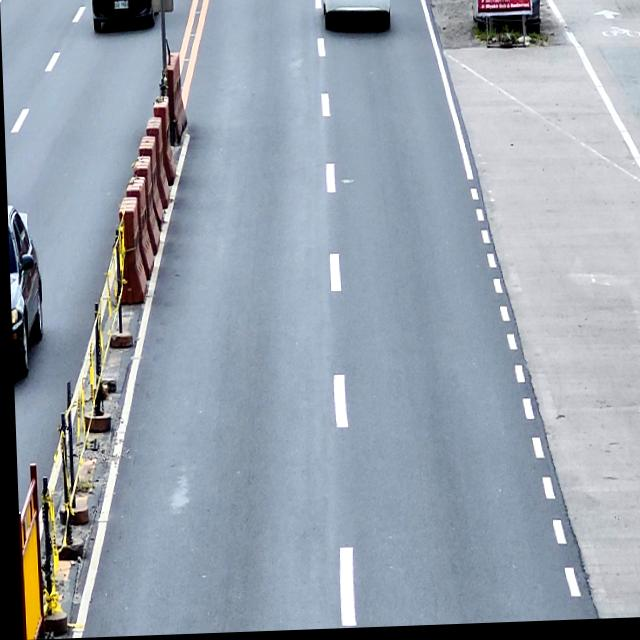Car: (6, 207, 43, 378), (322, 0, 392, 37), (92, 0, 160, 33)
License-Plate: (114, 2, 129, 10)
